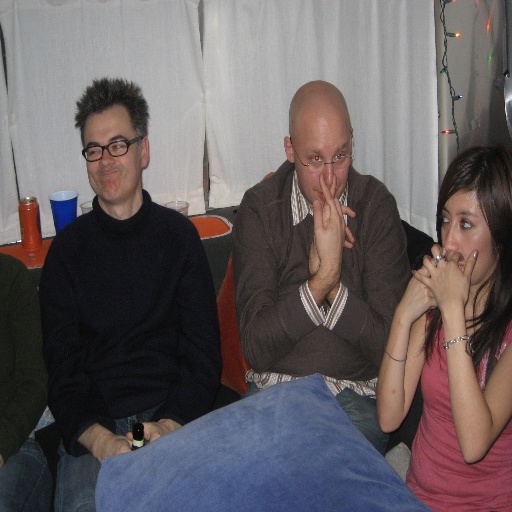hand: (379, 219, 502, 477), (306, 170, 357, 275), (410, 241, 480, 313), (312, 174, 346, 276), (124, 420, 173, 444), (99, 433, 132, 465)
